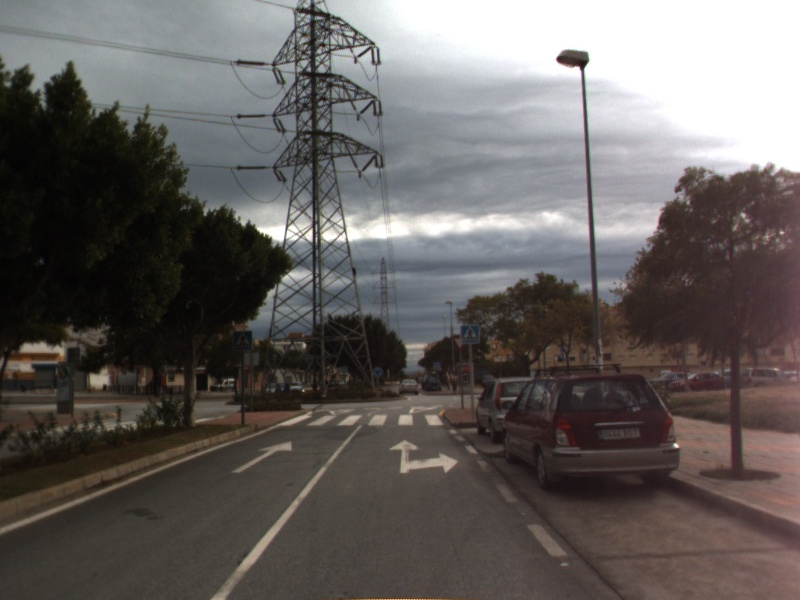STRAIGHT: (229, 439, 294, 475)
STRAIGHT_RIGHT: (387, 437, 461, 475)
